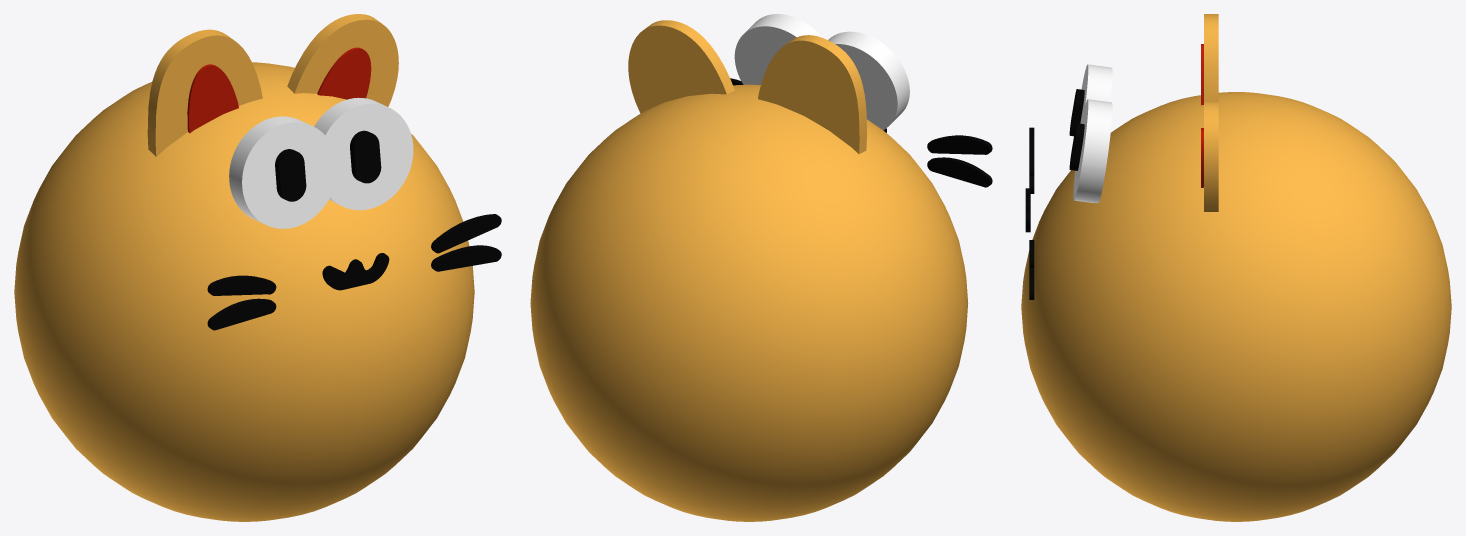
The picture shows the model from 3 angles, left to right: view 1: azimuth 30°, elevation 25°; view 2: azimuth 150°, elevation 25°; view 3: azimuth 270°, elevation 25°; orthographic projection. The views are drawn at different scales.
Visible parts, largest first — view 1: hinhtron, eye_around, vanhtai, eye, tai; view 2: hinhtron, vanhtai, eye_around, eye; view 3: hinhtron, eye_around, vanhtai, eye.
Part boxes in pixels (left/top/right/bottom): hinhtron: left=14, top=62, right=474, bottom=521; eye_around: left=229, top=97, right=413, bottom=228; vanhtai: left=147, top=14, right=398, bottom=156; eye: left=207, top=130, right=501, bottom=330; tai: left=187, top=47, right=371, bottom=133; hinhtron: left=530, top=84, right=968, bottom=521; vanhtai: left=628, top=20, right=866, bottom=153; eye_around: left=734, top=14, right=909, bottom=130; eye: left=730, top=78, right=992, bottom=187; hinhtron: left=1021, top=92, right=1451, bottom=521; eye_around: left=1073, top=64, right=1112, bottom=202; vanhtai: left=1204, top=14, right=1218, bottom=211; eye: left=1025, top=89, right=1084, bottom=299.
Bounding box in the file's own units: 176 × 207 × 176.
